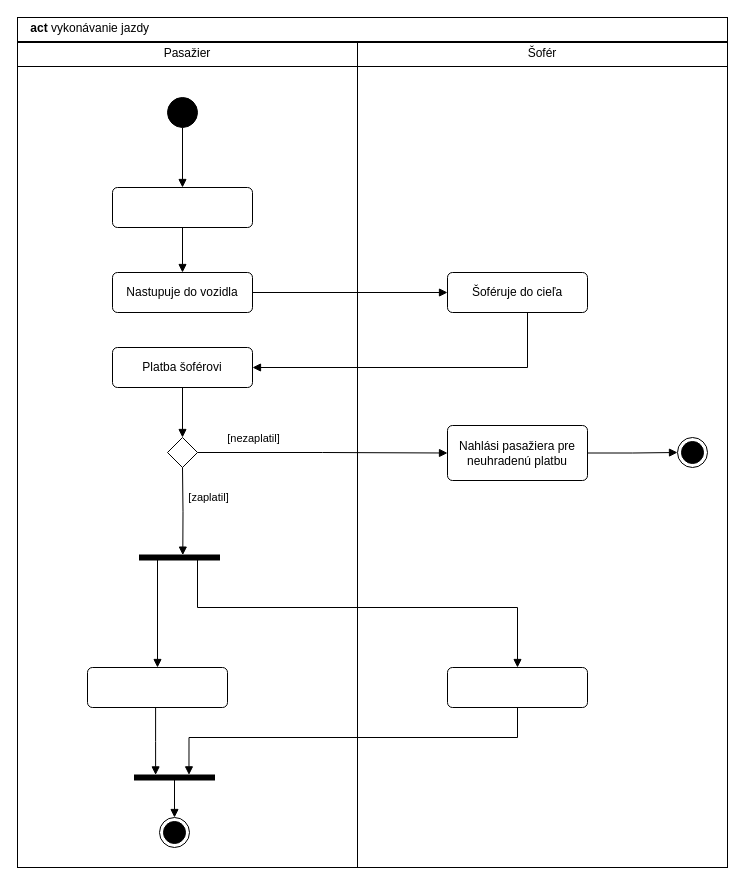
The diagram is 745 pixels wide and 885 high, and some of its shapes have lost their labels. Here are the shapes that lost their labels. From the top down, the centre of each, then its label:
(182,207): Dostane notifikáciu o polohe šoféra
(157,687): Hodnotí šoféra
(517,687): Hodnotí pasažiera
